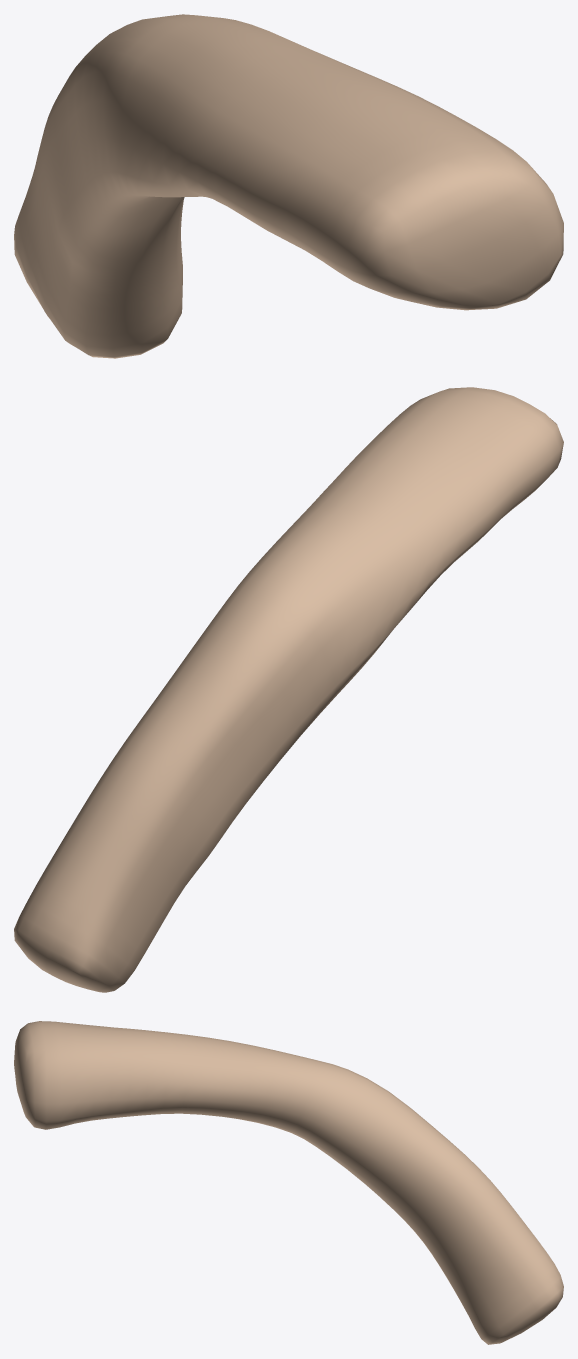
3 views of the same model, one above another, from view 1: azimuth 30°, elevation 25°; view 2: azimuth 150°, elevation 25°; view 3: azimuth 270°, elevation 25° (orthographic). The views are drawn at different scales.
Parts seen in each view (by area): view 1: 左侧腓骨肌总腱鞘; view 2: 左侧腓骨肌总腱鞘; view 3: 左侧腓骨肌总腱鞘.
Boxes of the visible parts, <box> form: 左侧腓骨肌总腱鞘: <box>14,14,563,358</box>; 左侧腓骨肌总腱鞘: <box>14,387,563,992</box>; 左侧腓骨肌总腱鞘: <box>14,1021,563,1344</box>.
Size of the model in its own units: 0.0197 by 0.0356 by 0.0631.
